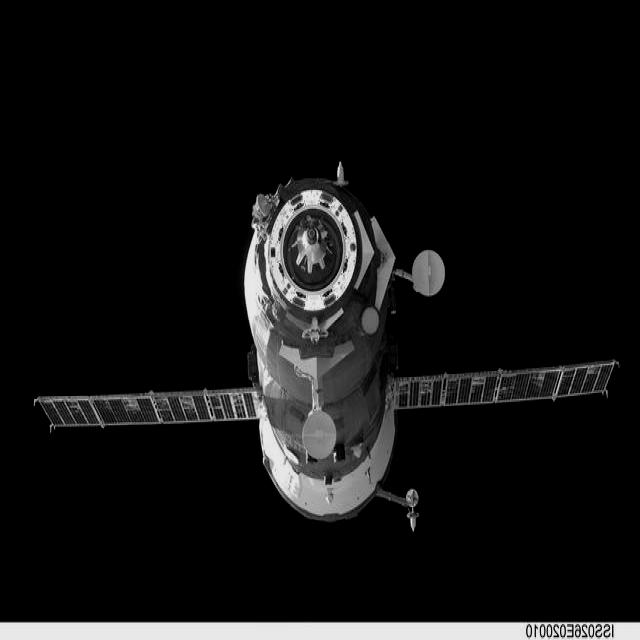satellite: (26, 143, 628, 588)
